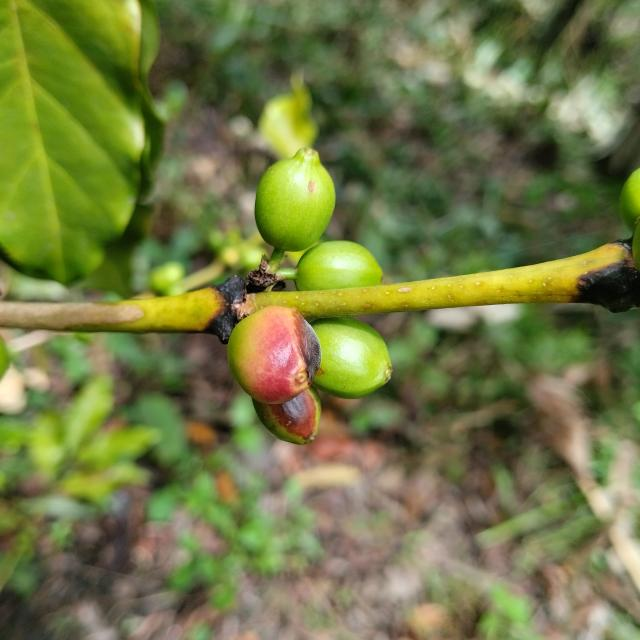green: (255, 147, 335, 251), (311, 317, 392, 399), (291, 241, 382, 291)
yellow: (227, 306, 321, 404), (252, 387, 321, 445)
